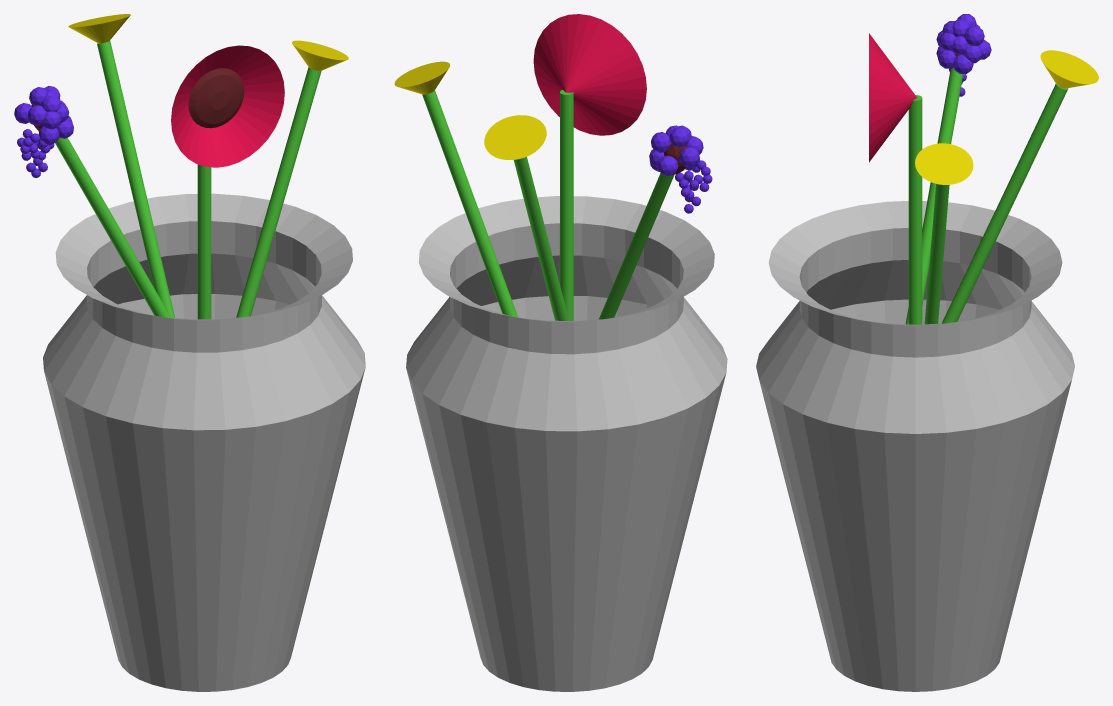
The model's file is map_objects_vase.fbx.
3 views of the same model, side by side, from view 1: azimuth 30°, elevation 25°; view 2: azimuth 150°, elevation 25°; view 3: azimuth 270°, elevation 25° (orthographic).
Visible parts, largest first — view 1: 円柱; view 2: 円柱; view 3: 円柱.
Part boxes in pixels (x1,y1,x2,y2): 円柱: [14, 14, 365, 691]; 円柱: [394, 14, 727, 691]; 円柱: [756, 14, 1098, 691].
Bounding box in the file's own units: 257 × 482 × 243.
